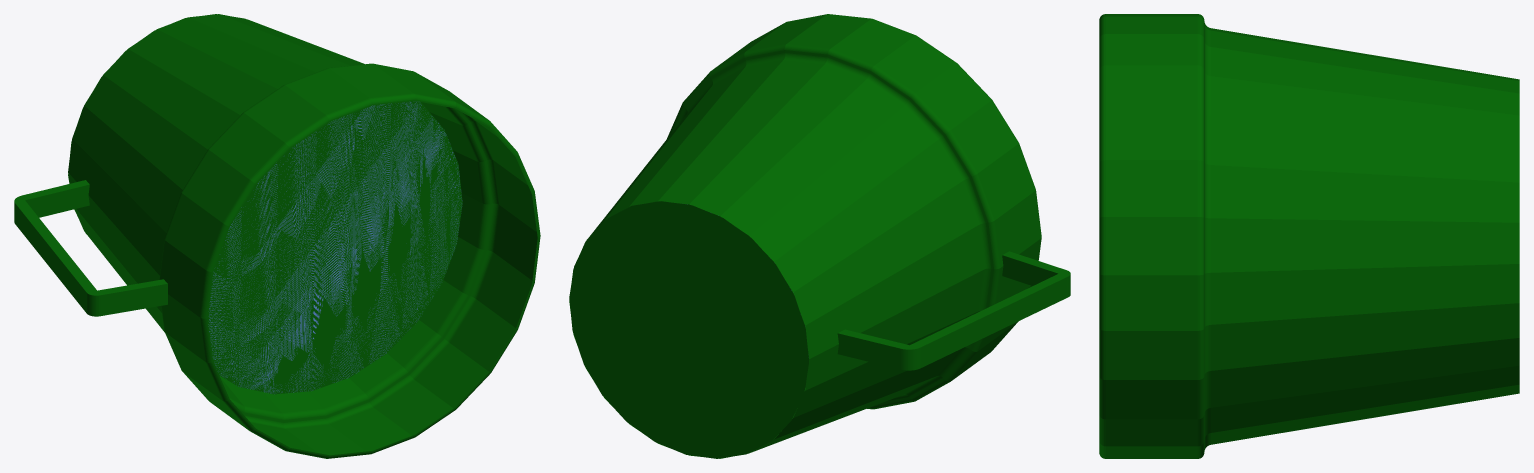
The picture shows the model from 3 angles, left to right: view 1: azimuth 30°, elevation 25°; view 2: azimuth 150°, elevation 25°; view 3: azimuth 270°, elevation 25°; orthographic projection. The views are drawn at different scales.
Parts seen in each view (by area): view 1: coffee mug; view 2: coffee mug; view 3: coffee mug.
Boxes of the visible parts, x1,y1,x2,y2 form: coffee mug: [14, 14, 540, 458]; coffee mug: [569, 14, 1070, 458]; coffee mug: [1099, 14, 1519, 458].
Size of the model in its own units: 5.13 by 4.25 by 4.
